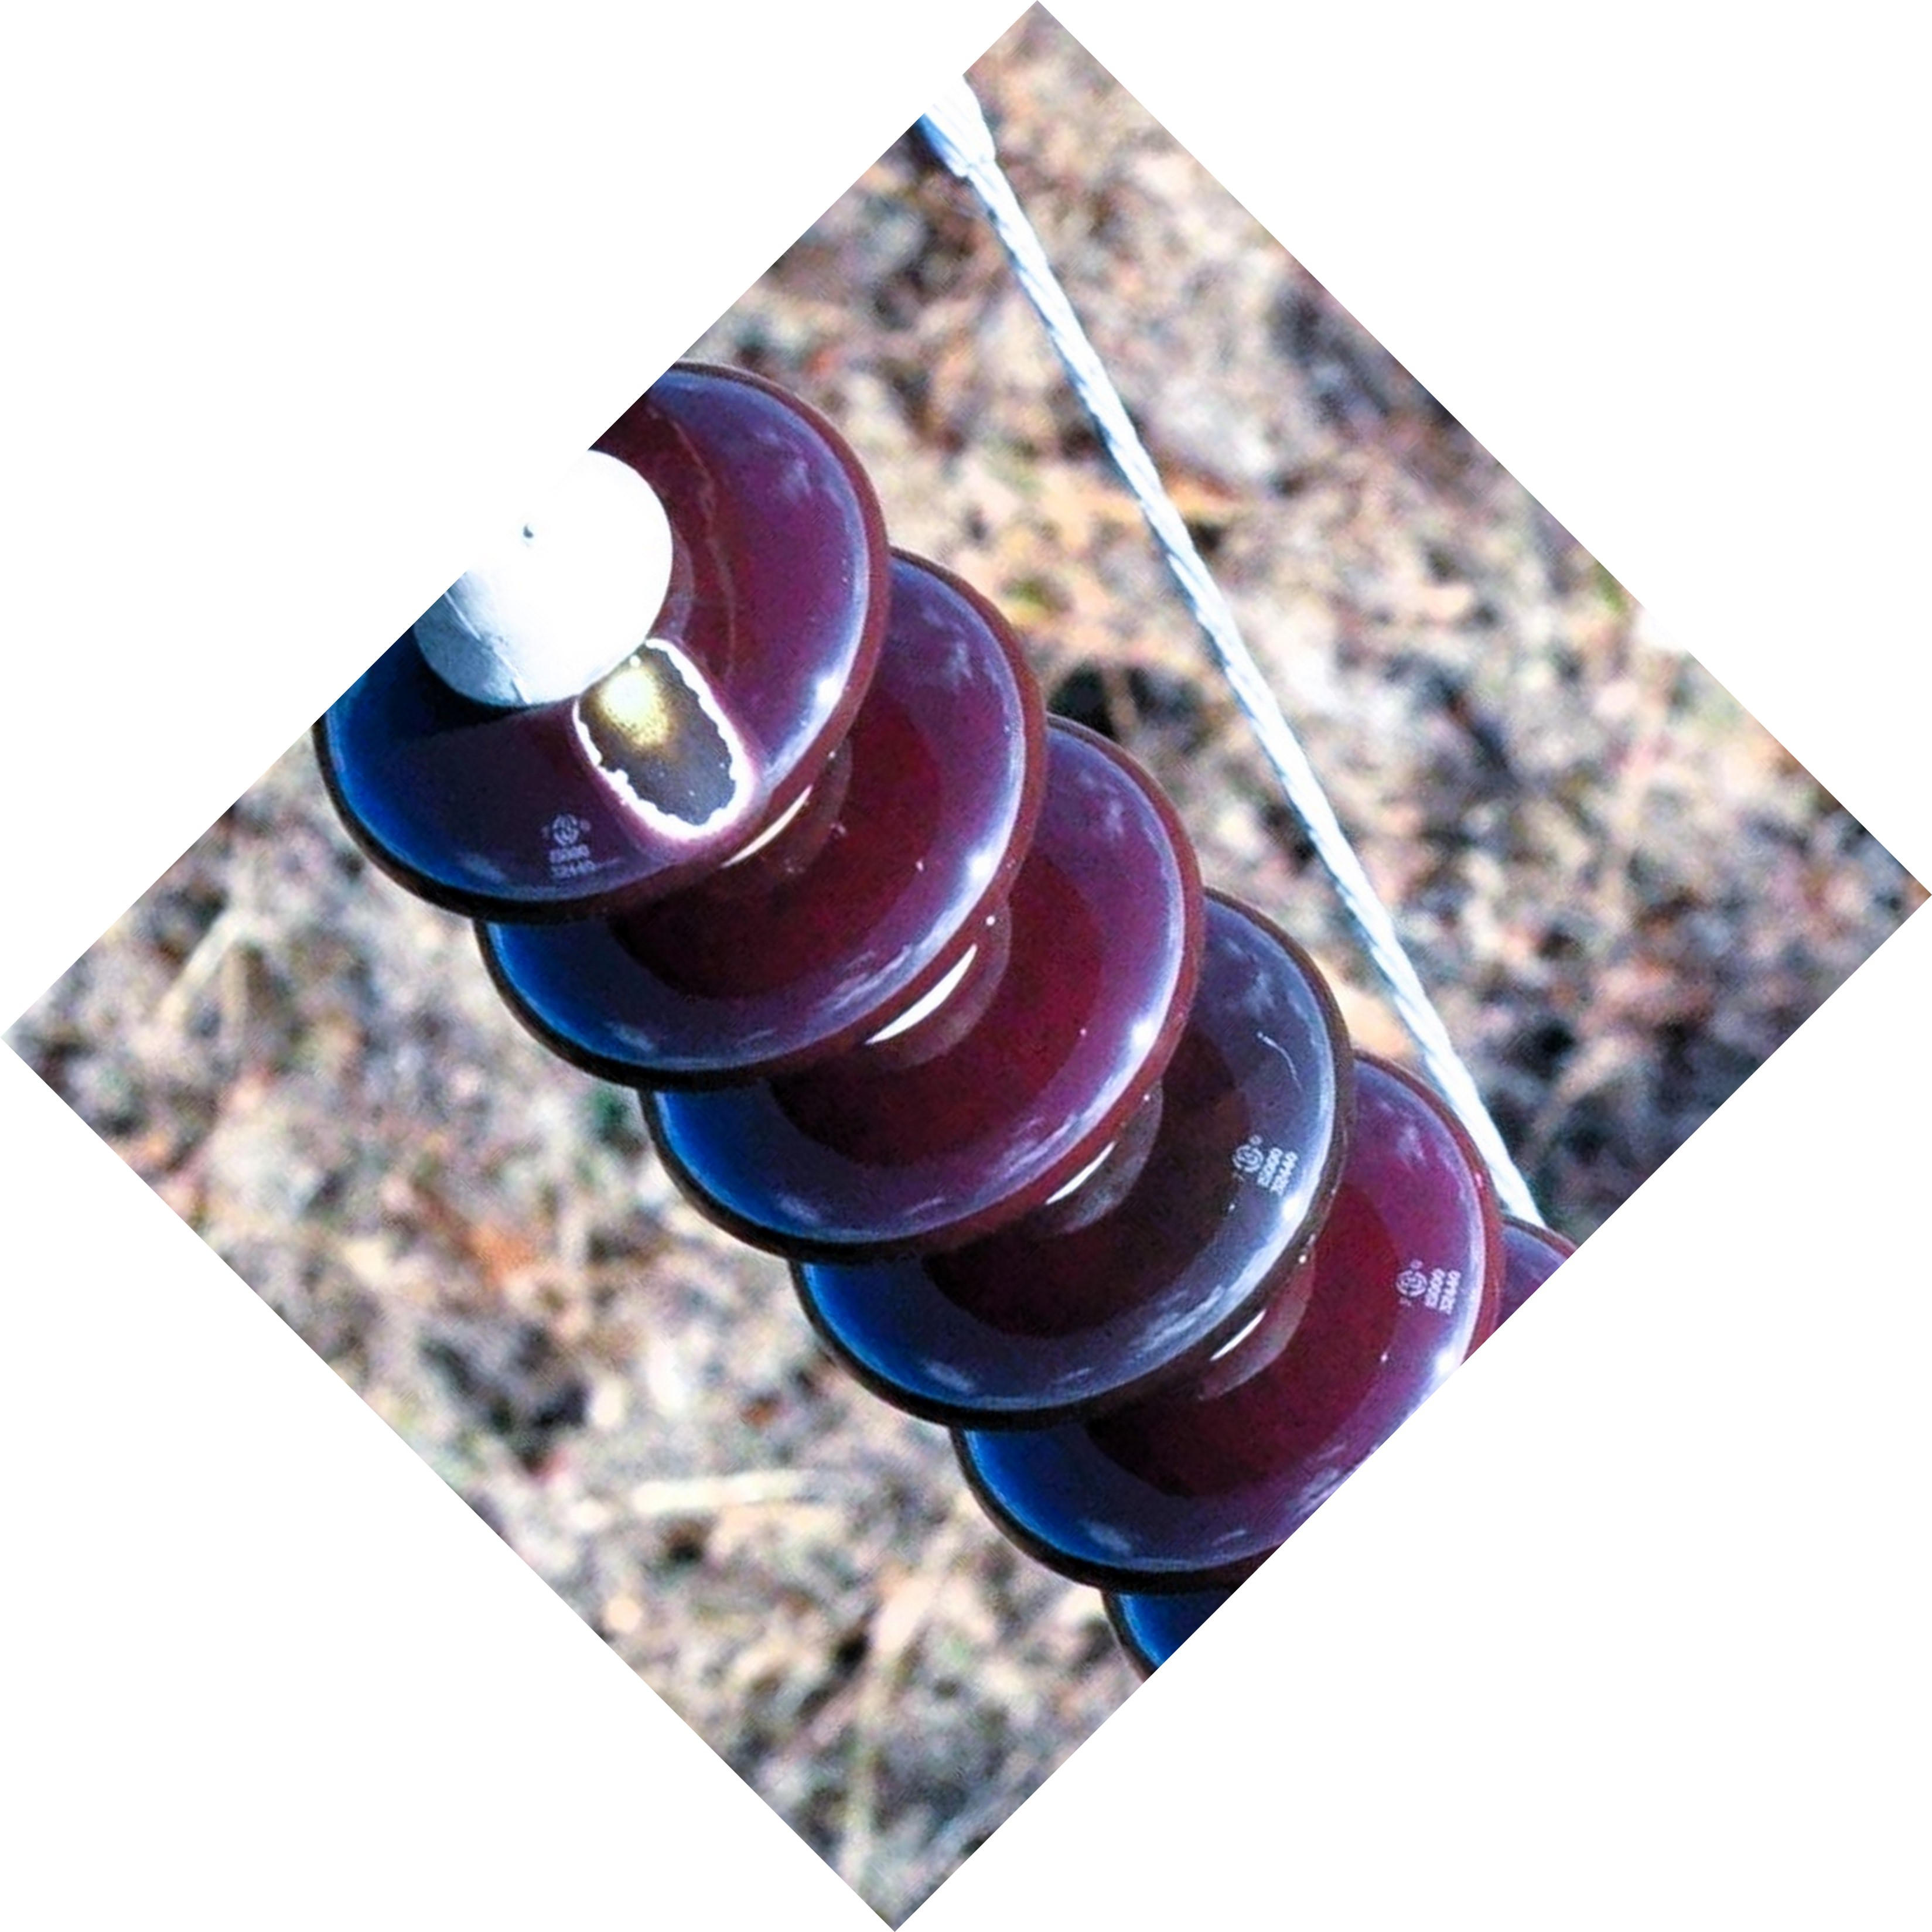Insulator flashover: (299, 349, 911, 932)
